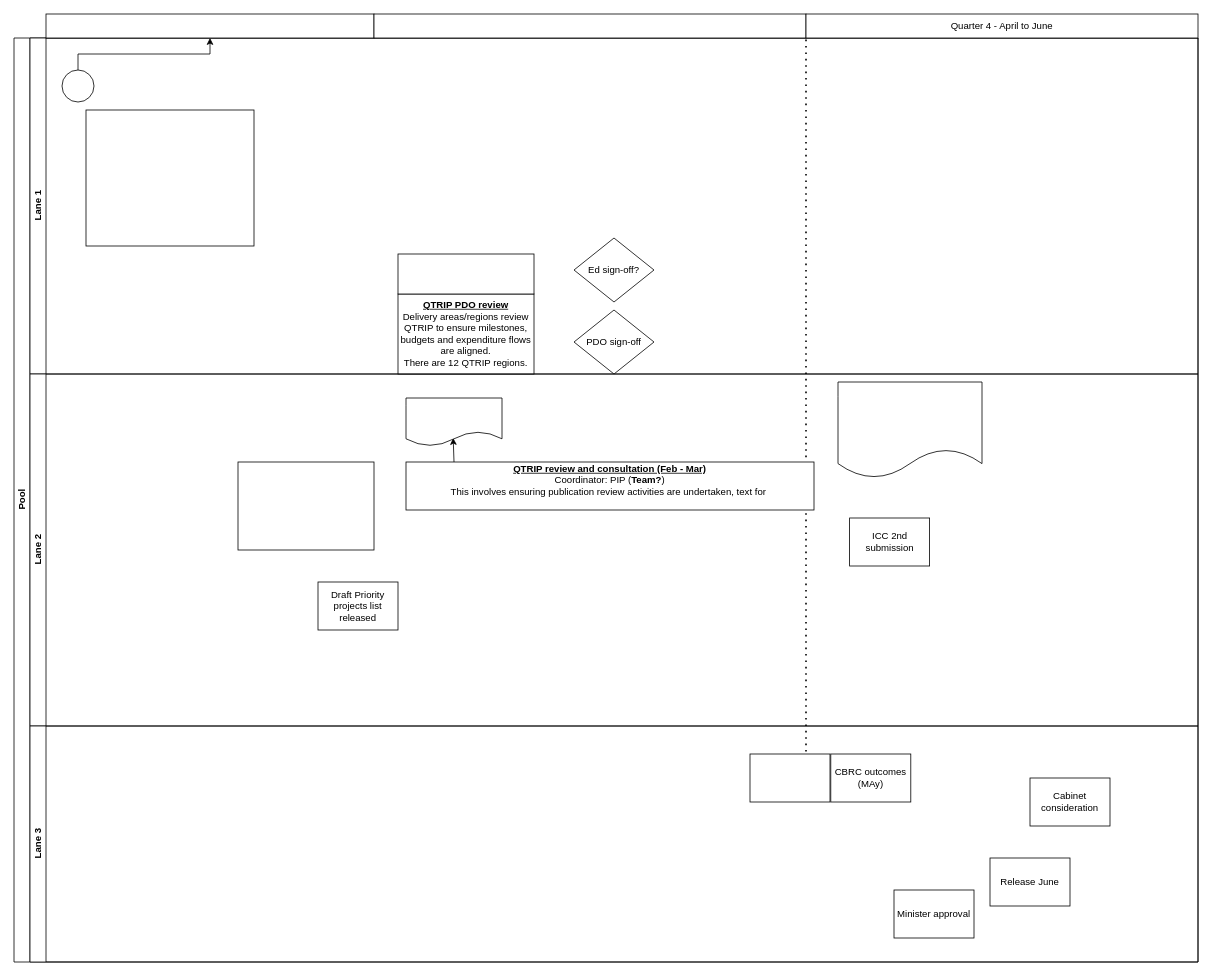
This 1212x976 diagram has some shape labels left out. Each missing label, with the centre of its shape:
"Draft QTRIP to ICC" goes at (x=909, y=429).
"Federal Budget released (May)" goes at (x=789, y=777).
"Non-PDO review -Translink - Queensland Rail" goes at (x=465, y=273).
"QTRIP January review PIP led formal program review" goes at (x=305, y=505).
"QTRIP review extract for each PDO/non-PDO" goes at (x=453, y=421).
"Quarter 2 - October to December" goes at (x=209, y=25).
"Quarter 3 - January to March" goes at (x=589, y=25).
